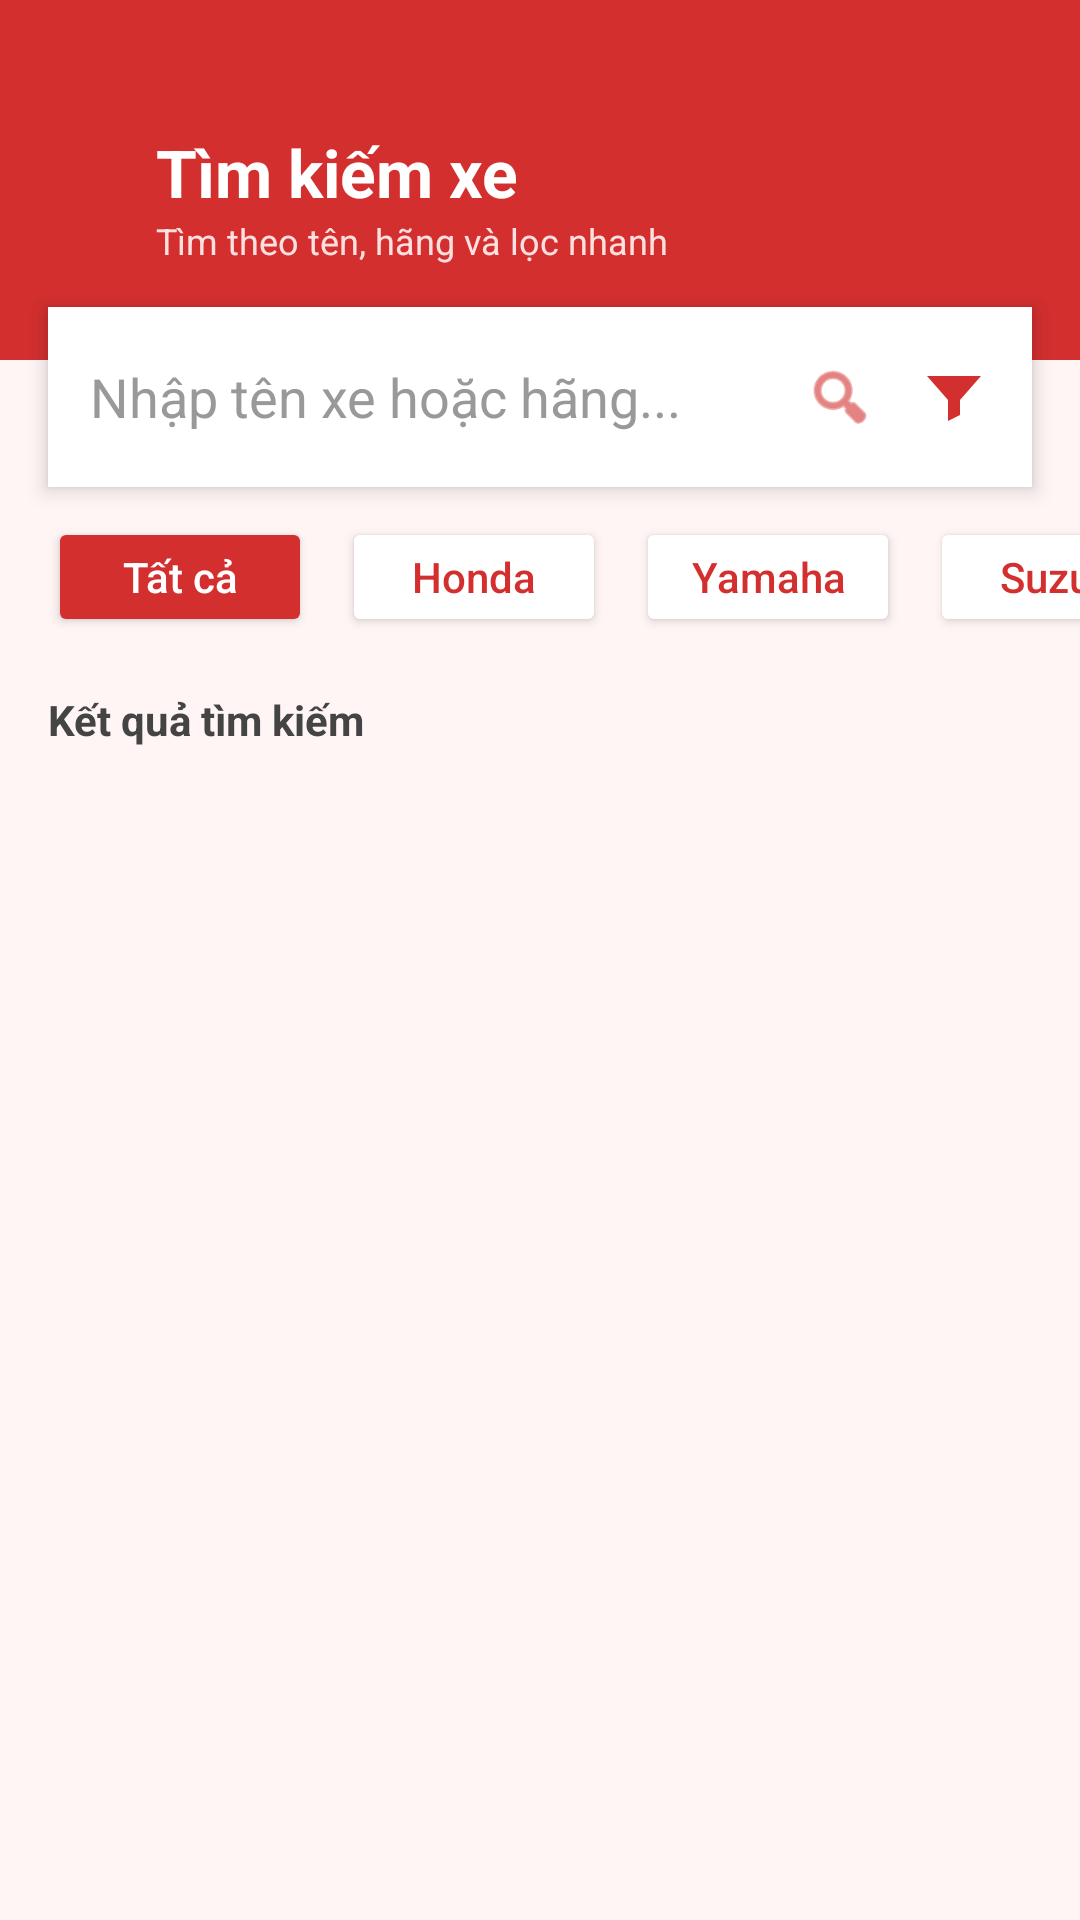

Icon bounding boxes for this 1080w x 1920h phone screenshot, format (x1, y1, x2, y2):
filter: (927, 376, 981, 421)
search: (813, 371, 867, 424)
